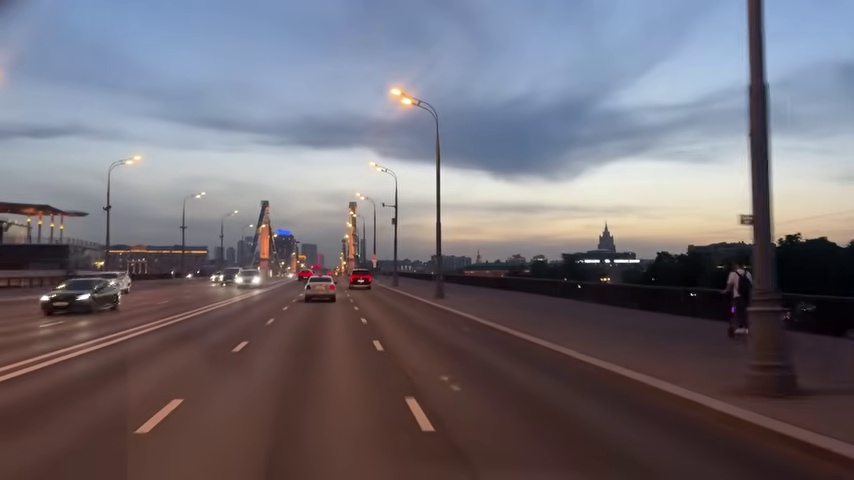acesa: (390, 86, 415, 108), (125, 153, 143, 167), (367, 161, 383, 176), (194, 190, 206, 203)
